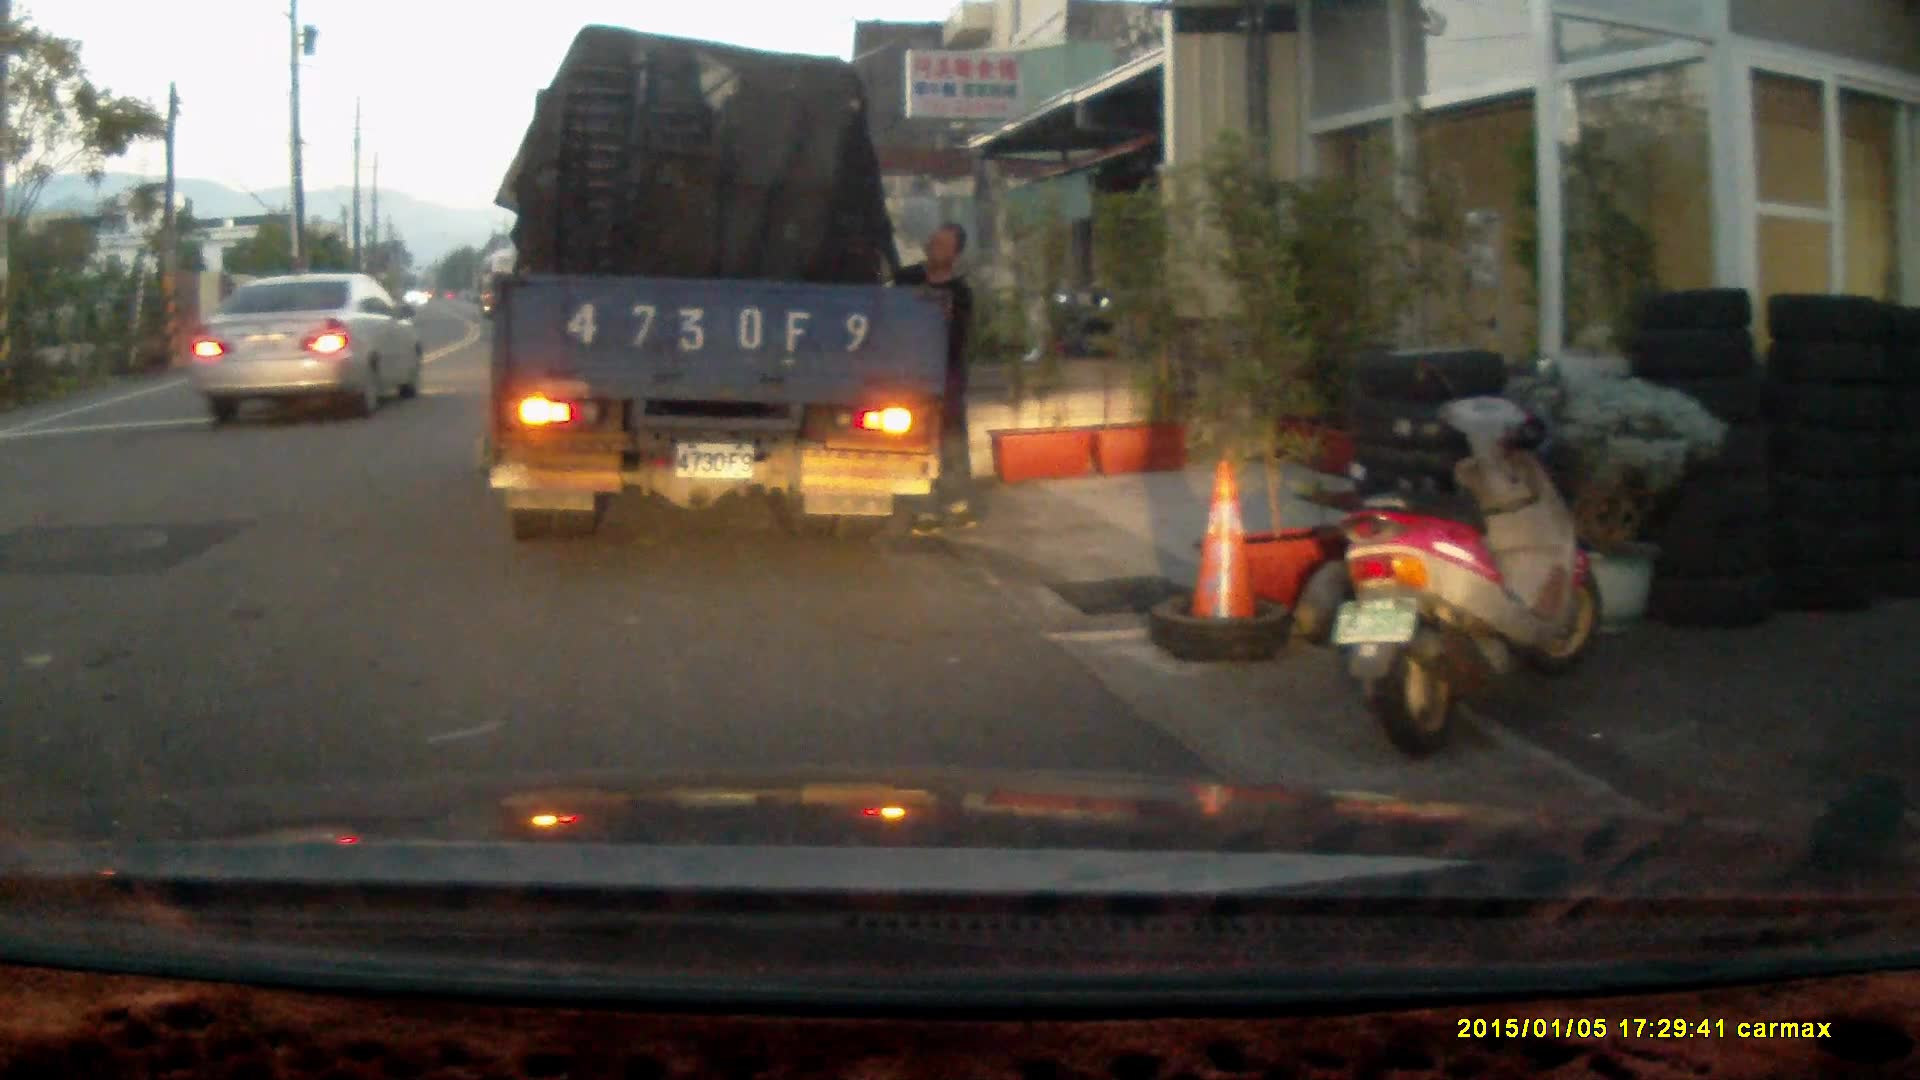pedestrian: (891, 219, 981, 538)
vehicle: (498, 31, 962, 539), (198, 271, 431, 422)
